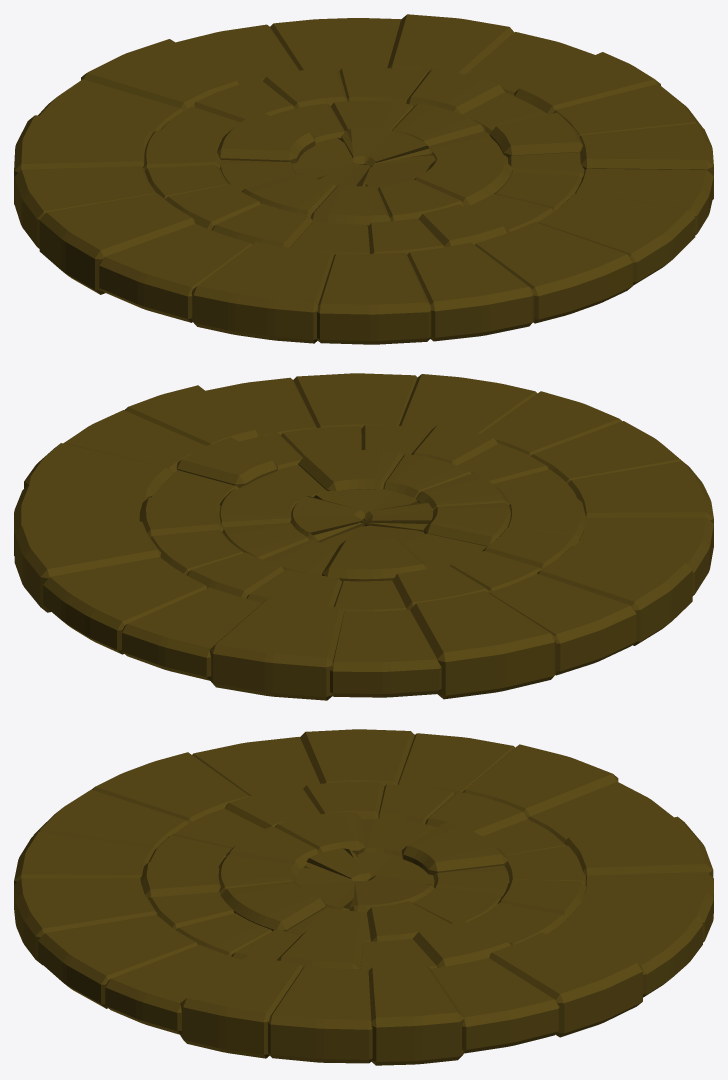
Rendered from randWall5.fbx.
3 views of the same model, one above another, from view 1: azimuth 30°, elevation 25°; view 2: azimuth 150°, elevation 25°; view 3: azimuth 270°, elevation 25° (orthographic).
Visible parts, largest first — view 1: Wall.002; view 2: Wall.002; view 3: Wall.002.
Part boxes in pixels (x1,y1,x2,y2): Wall.002: (14,14,713,344); Wall.002: (14,373,713,700); Wall.002: (14,729,713,1065).
Size of the model in its own units: 3039 by 251 by 3035.
